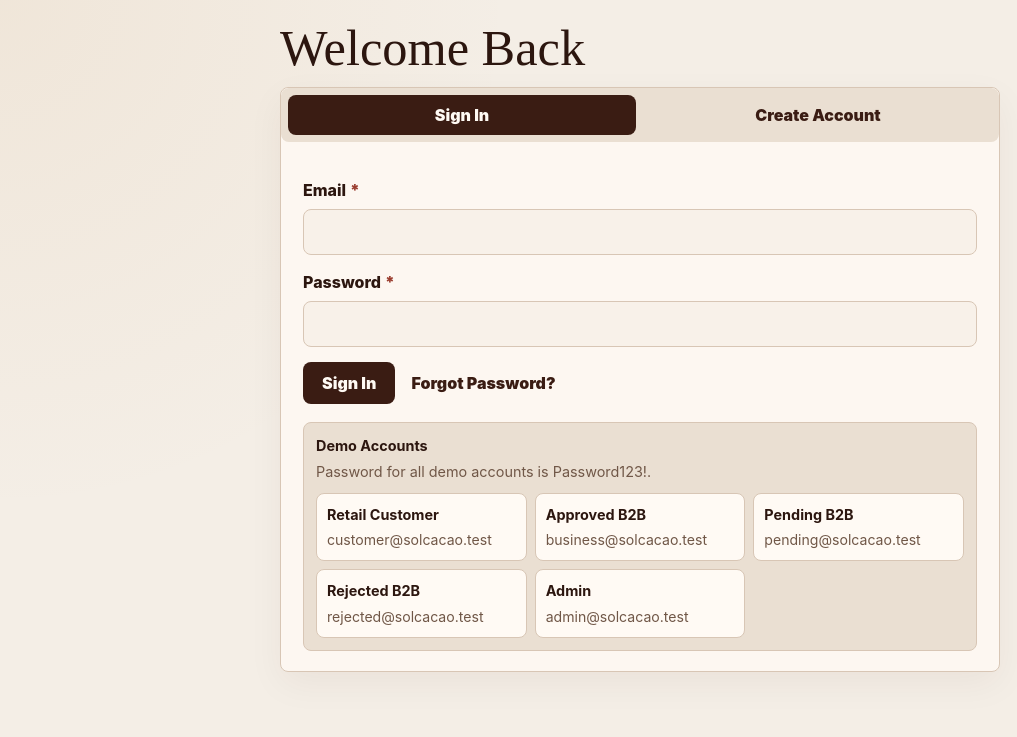
Scenario: authentication failure is displayed and submit becomes available again
In the field labelled "Email": (640,232) [303,209,977,255], type "customer@solcacao.test"
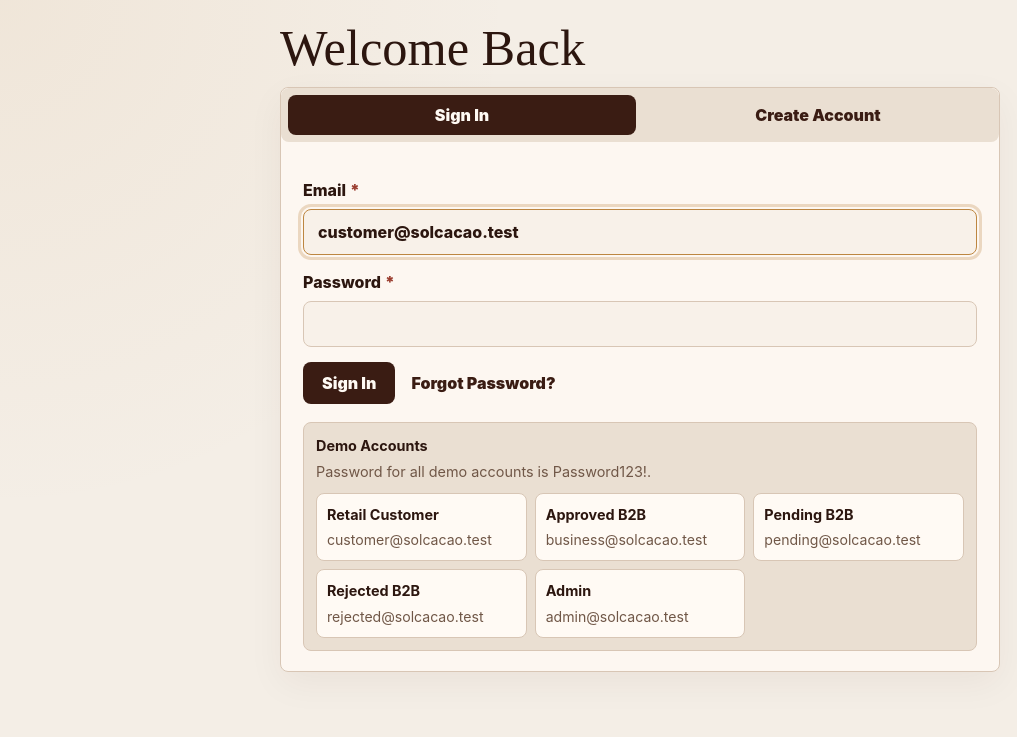
In the password field labelled "Password *": (640,324) [303,301,977,347], type "Password123!"
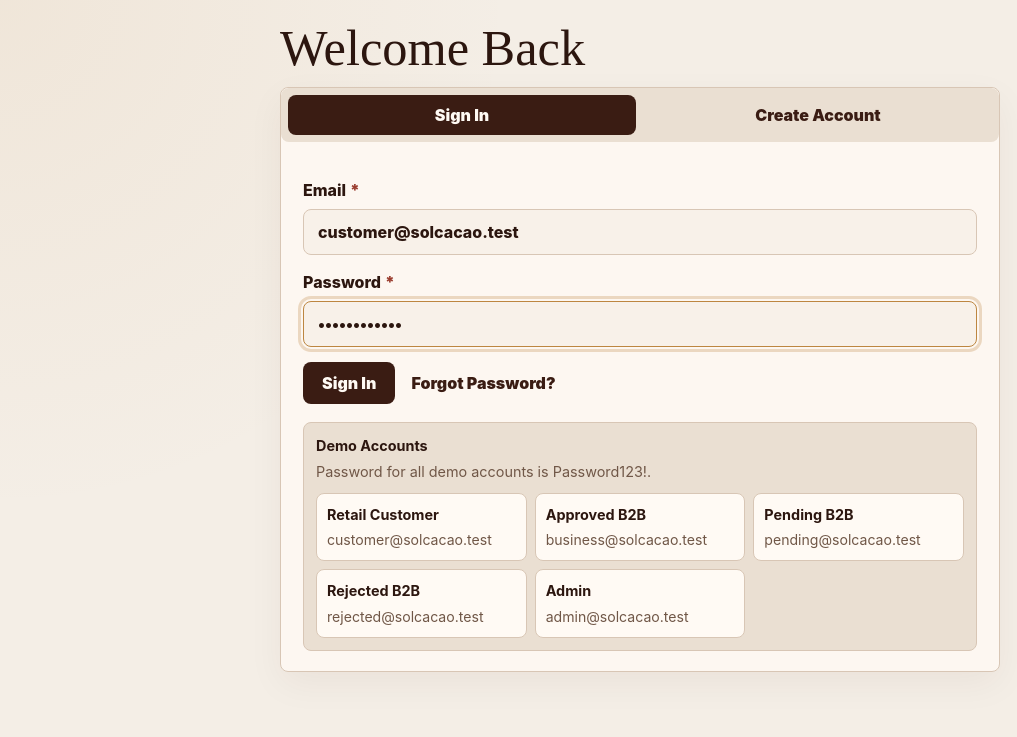
Click the button "Sign In" next to "Forgot Password?": (349,383) [303,362,395,404]
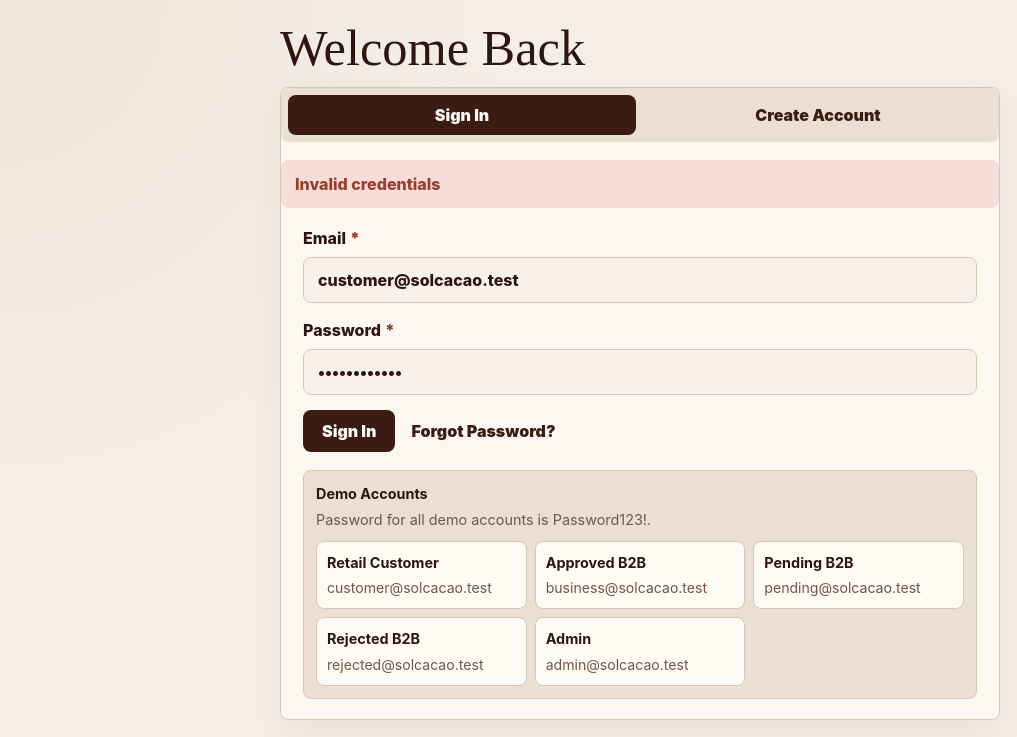
Expected: the button "Sign In" next to "Forgot Password?" is enabled, [303,410,395,452]
Expected: the text "Invalid credentials" is shown, [281,160,999,208]
